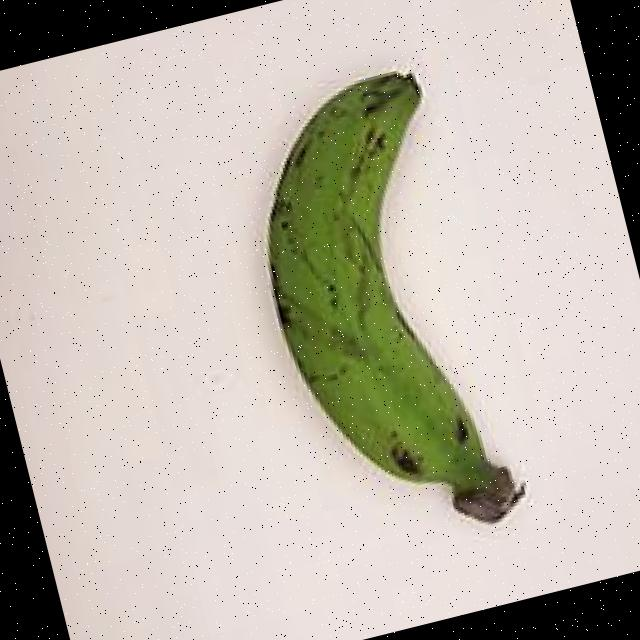Raw: (190, 24, 588, 598)
